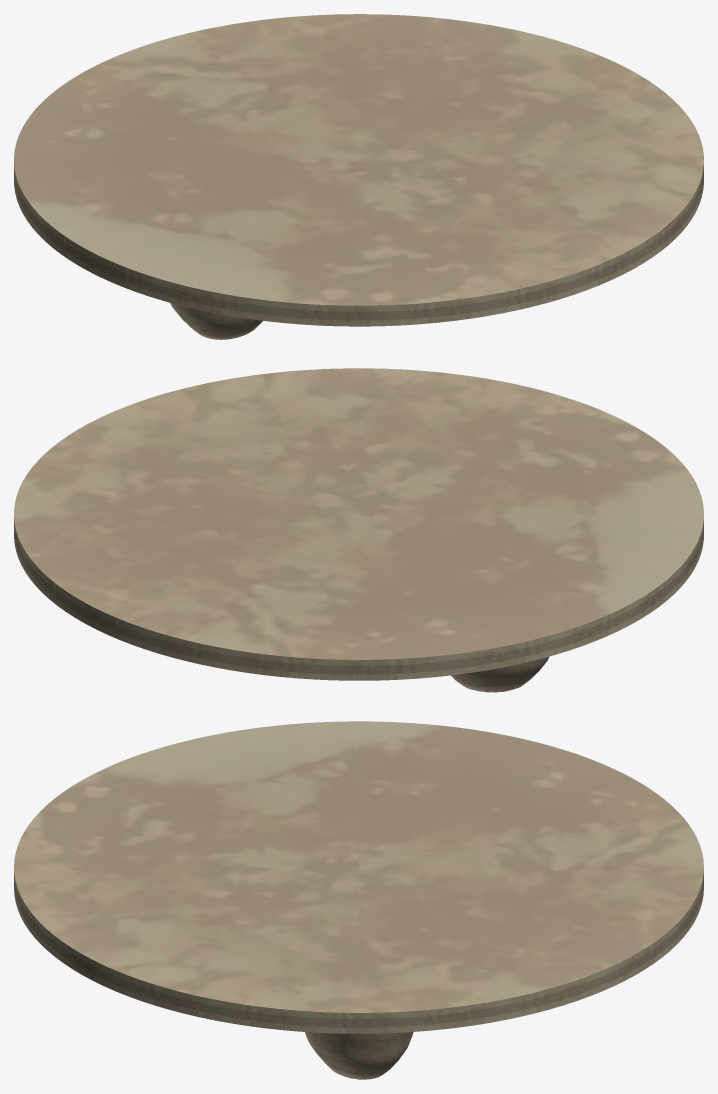
File: island_medium.glb
3 views of the same model, one above another, from view 1: azimuth 30°, elevation 25°; view 2: azimuth 150°, elevation 25°; view 3: azimuth 270°, elevation 25° (orthographic).
Visible parts, largest first — view 1: IslandStone; view 2: IslandStone; view 3: IslandStone.
Boxes of the visible parts, left/top/right/bottom form: IslandStone: left=14, top=14, right=703, bottom=339; IslandStone: left=14, top=368, right=703, bottom=692; IslandStone: left=14, top=721, right=703, bottom=1079.
Size of the model in its own units: 36 by 8 by 36.
1 material, 1 textured.
